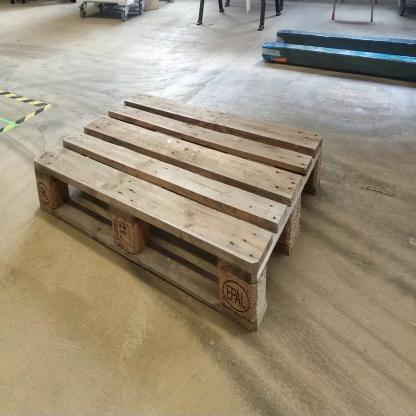BoxFace: (28, 82, 326, 342)
